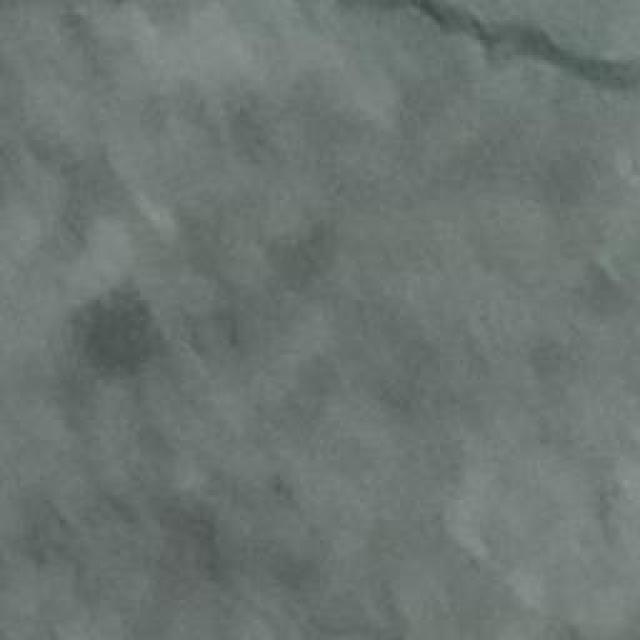Rippled: (0, 114, 613, 619)
Transverse: (352, 0, 640, 104)
